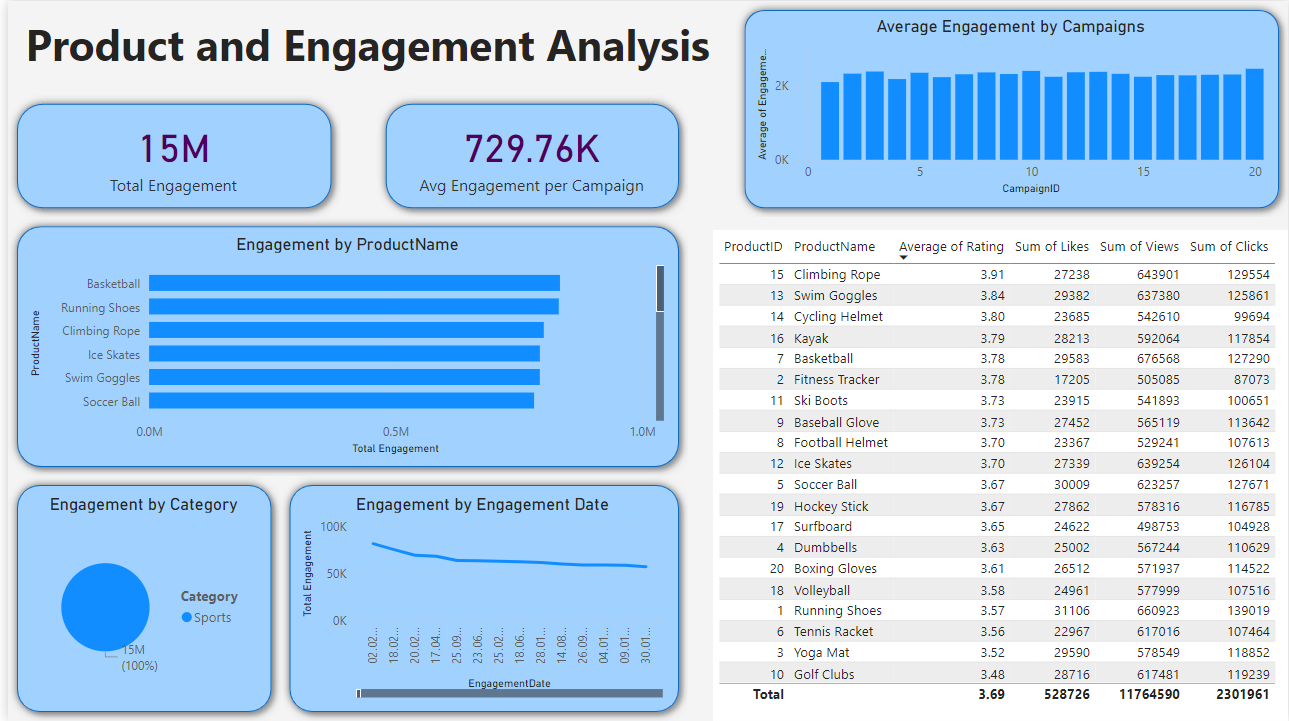

Layout of this report page (visuals, bound fields, positions):
{"tool":"powerbi","page":{"name":"Product and Engagement Analysis","canvas":[1280,720],"ordinal":2},"visuals":[{"type":"textbox","box":[12.5,8.8,710,81.2],"z":0},{"type":"tableEx","fields":{"Values":["reviews_with_sentiment_new.ProductID","cleaned_product.ProductName","Avg(cleaned_reviews.Rating)","Sum(cleaned_engagement.Likes)","Sum(cleaned_engagement.Views)","Sum(cleaned_engagement.Clicks)"]},"box":[705,228.8,575,491.2],"z":1000},{"type":"shape","box":[0,93.8,332.5,122.5],"z":7001},{"type":"shape","box":[368.8,93.8,311.2,122.5],"z":7002},{"type":"card","fields":{"Values":["cleaned_engagement.Avg Engagement per Campaign"]},"box":[386.2,110,275,88.8],"z":7003},{"type":"card","fields":{"Values":["cleaned_engagement.Total Engagement"]},"box":[15,110,301.2,88.8],"z":7004},{"type":"shape","box":[0,216.2,680,258.8],"z":7005},{"type":"barChart","title":"Engagement by ProductName","fields":{"Category":["cleaned_product.ProductName"],"Y":["cleaned_engagement.Total Engagement"]},"box":[17.5,232.5,643.8,226.2],"z":7006},{"type":"shape","box":[272.5,475,407.5,245],"z":7007},{"type":"lineChart","title":"Engagement by Engagement Date","fields":{"Y":["cleaned_engagement.Total Engagement"],"Category":["cleaned_engagement.EngagementDate"]},"box":[288.8,492.5,371.2,208.8],"z":7008},{"type":"shape","box":[0,475,272.5,245],"z":7009},{"type":"pieChart","title":"Engagement by Category","fields":{"Category":["cleaned_product.Category"],"Y":["cleaned_engagement.Total Engagement"]},"box":[17.5,492.5,236.2,208.8],"z":7010},{"type":"shape","box":[727.5,0,552.5,216.2],"z":7011},{"type":"columnChart","title":"Average Engagement by Campaigns","fields":{"Category":["cleaned_engagement.CampaignID"],"Y":["Avg(cleaned_engagement.EngagementID)"]},"box":[743.8,15,517.5,183.8],"z":7012}]}

Visuals, with their boxes in screenshot pixels (x1, y1, x2, y2), scaled from the page's 1280x720 canvas onto the 1289x721 screenshot:
textbox: <bbox>13, 9, 728, 90</bbox>
tableEx - reviews_with_sentiment_new.ProductID x cleaned_product.ProductName: <bbox>710, 229, 1288, 720</bbox>
shape: <bbox>0, 94, 335, 217</bbox>
shape: <bbox>371, 94, 685, 217</bbox>
card - cleaned_engagement.Avg Engagement per Campaign: <bbox>389, 110, 666, 199</bbox>
card - cleaned_engagement.Total Engagement: <bbox>15, 110, 318, 199</bbox>
shape: <bbox>0, 217, 685, 476</bbox>
"Engagement by ProductName" barChart: <bbox>18, 233, 666, 459</bbox>
shape: <bbox>274, 476, 685, 720</bbox>
"Engagement by Engagement Date" lineChart: <bbox>291, 493, 665, 702</bbox>
shape: <bbox>0, 476, 274, 720</bbox>
"Engagement by Category" pieChart: <bbox>18, 493, 255, 702</bbox>
shape: <bbox>733, 0, 1288, 217</bbox>
"Average Engagement by Campaigns" columnChart: <bbox>749, 15, 1270, 199</bbox>
